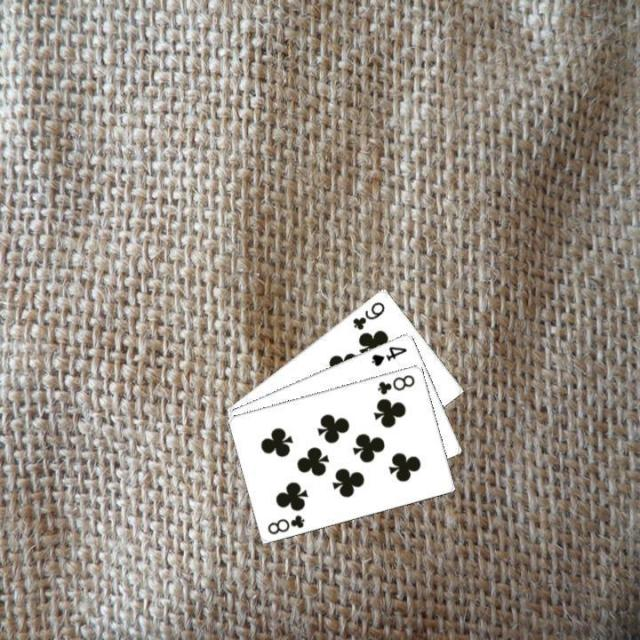4S: (368, 342, 409, 368)
8C: (264, 510, 307, 536), (373, 371, 417, 396)
9C: (348, 297, 386, 331)
